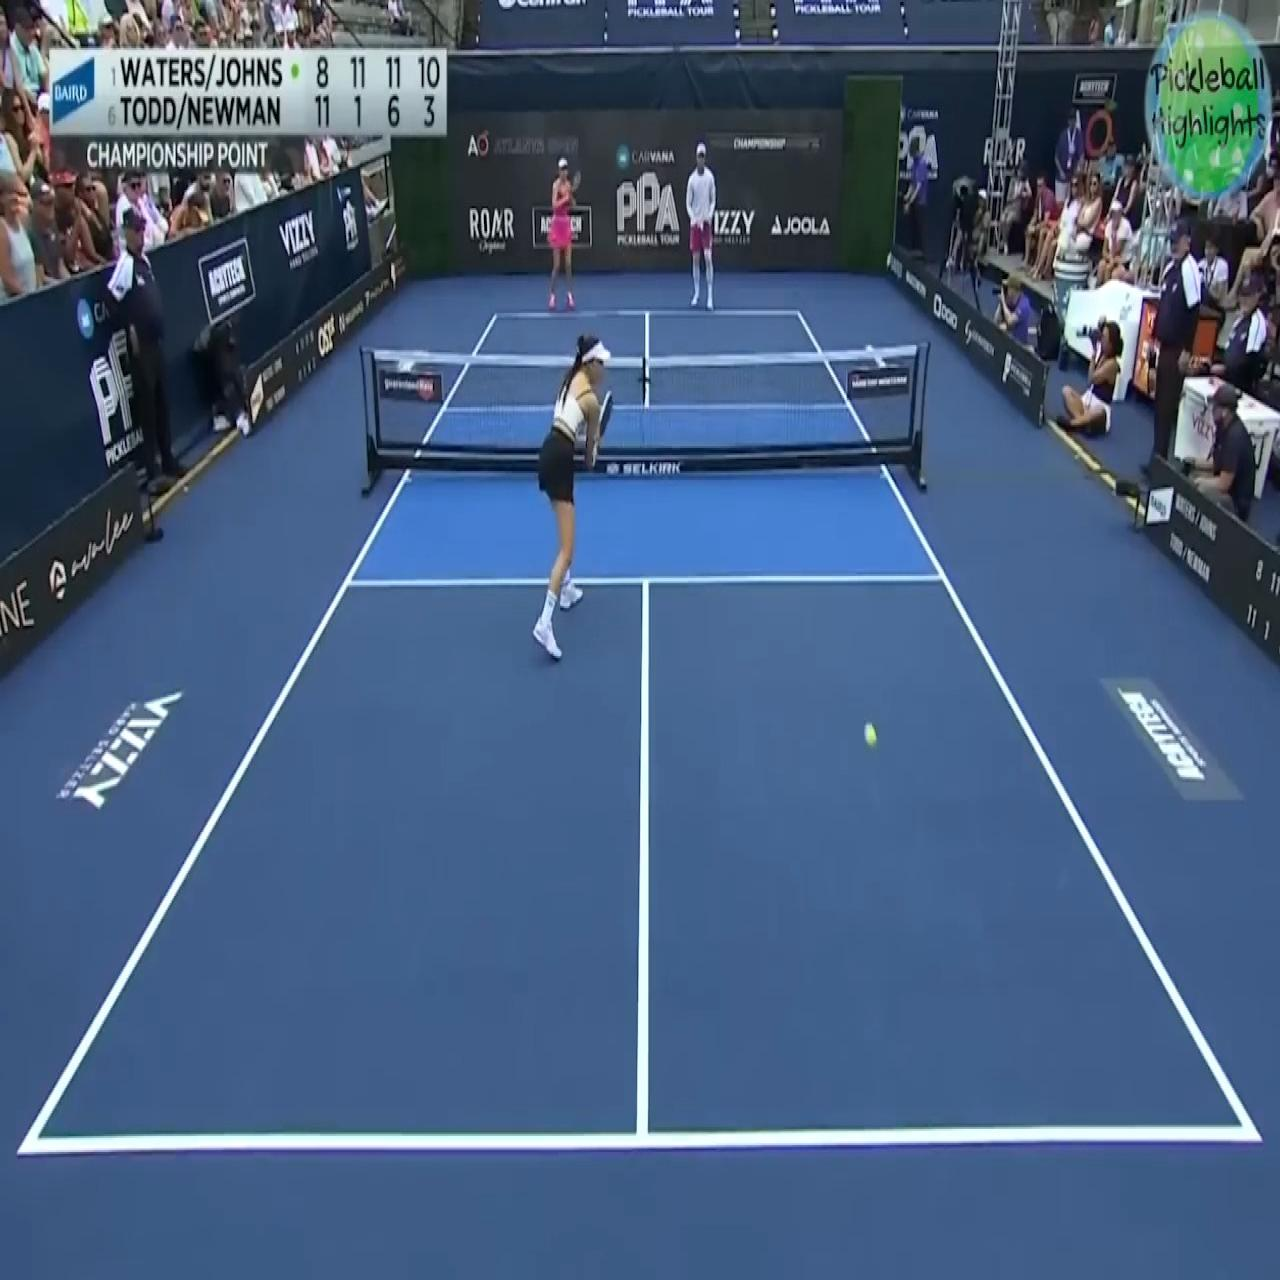Pickleball: (862, 716, 880, 754)
